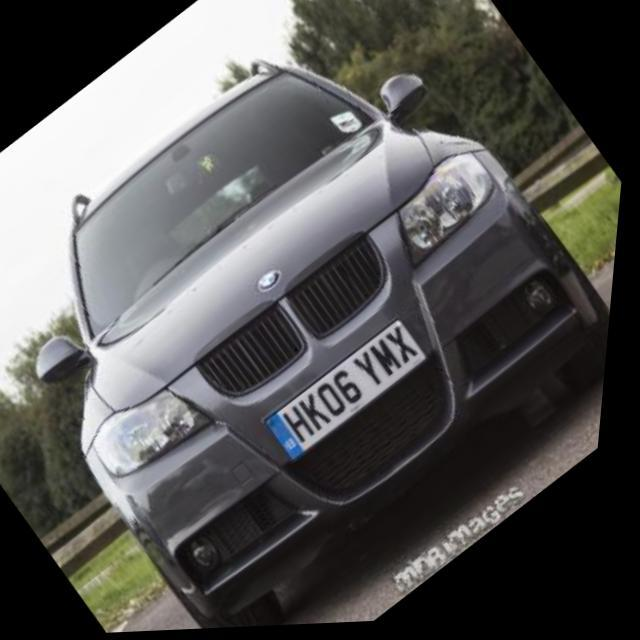license_plate: (270, 319, 438, 465)
